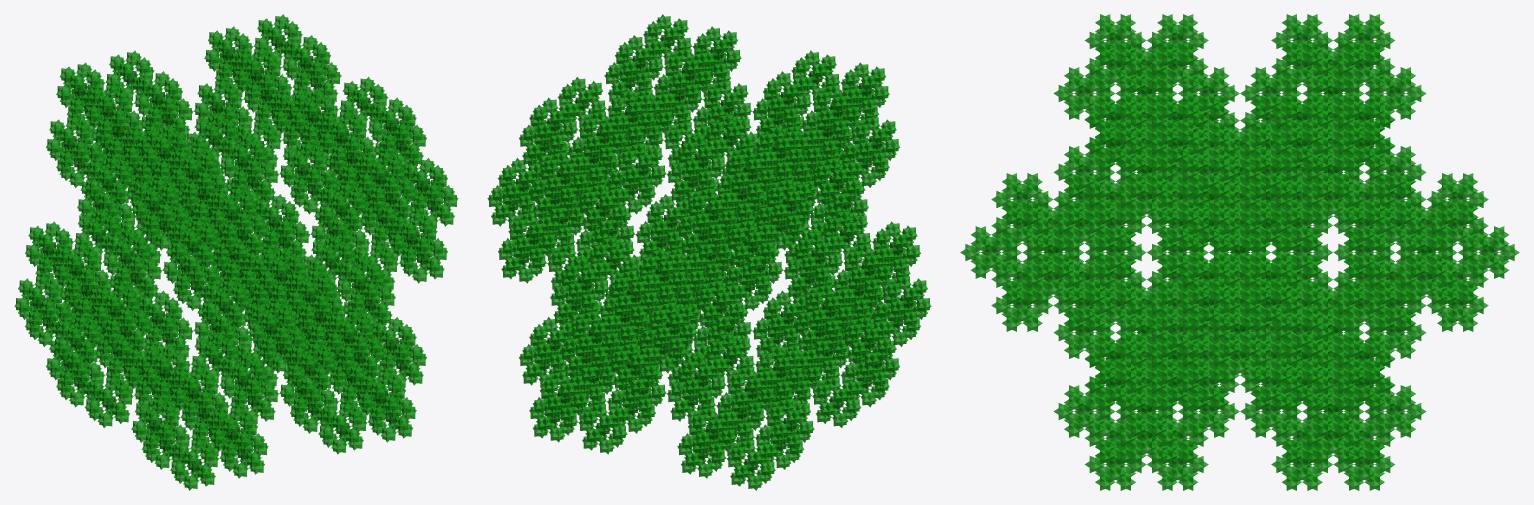
File: fractalescher3.glb
The picture shows the model from 3 angles, left to right: view 1: azimuth 30°, elevation 25°; view 2: azimuth 150°, elevation 25°; view 3: azimuth 270°, elevation 25°; orthographic projection. The views are drawn at different scales.
Bounding box in the file's own units: 12.41 × 8.78 × 12.41.
